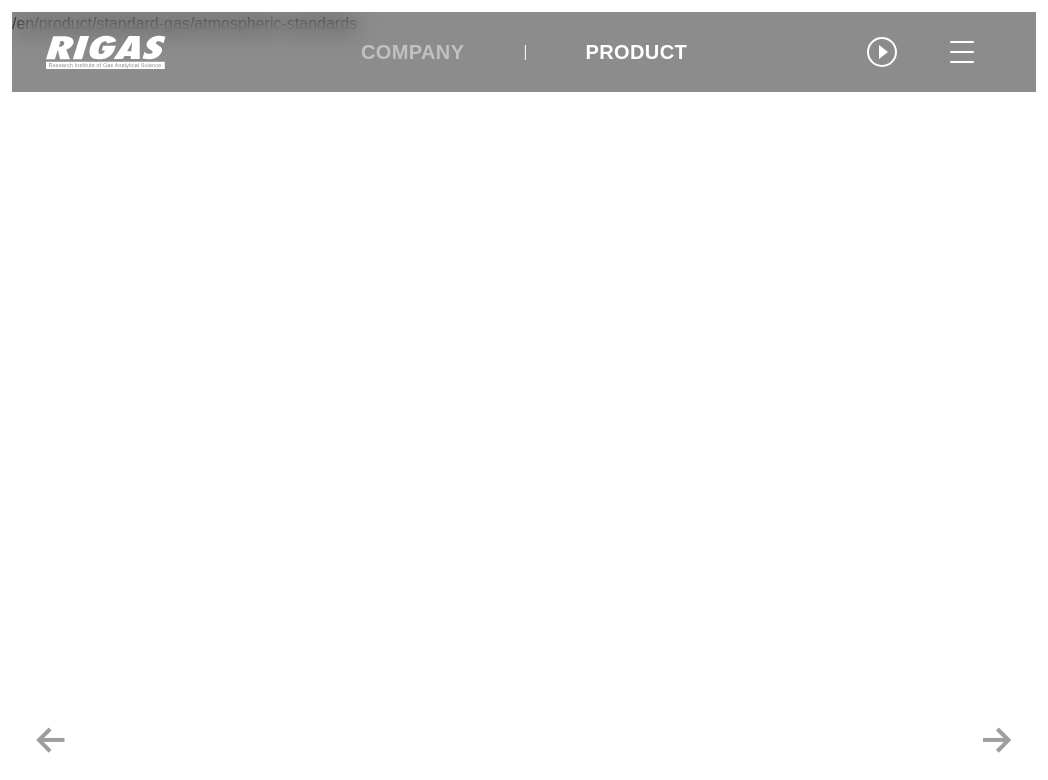
Test: submenu navigation changes the route and closes the menu
Hover over the element named "Main navigation" at point(524, 52), box [12,12,1036,92]
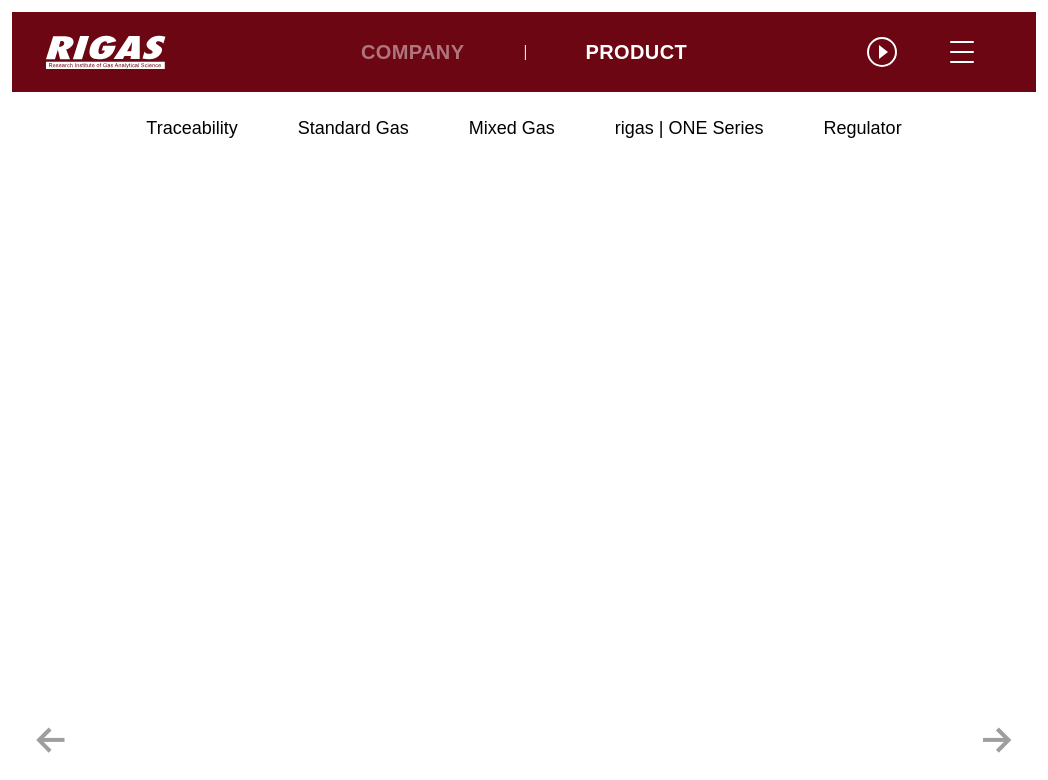
Click the link "Regulator". click: point(863, 128)
box: [824,118,902,138]
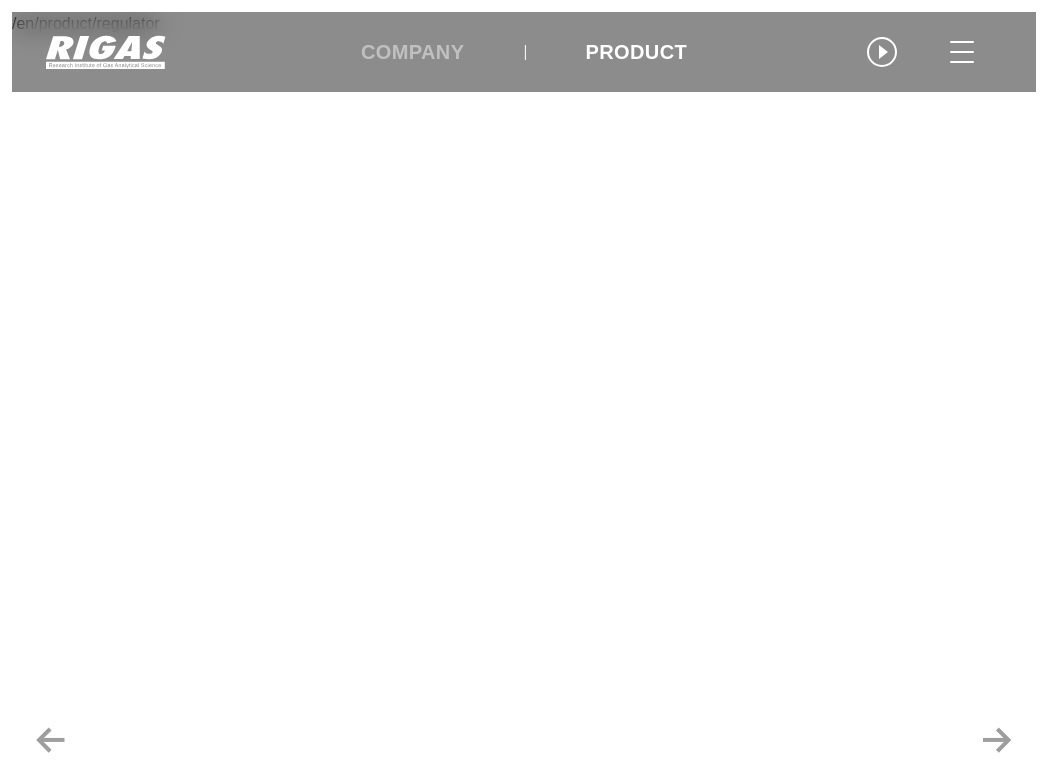
Result: the text with test id "path" reads "/en/product/regulator" at [12,15,160,32]
